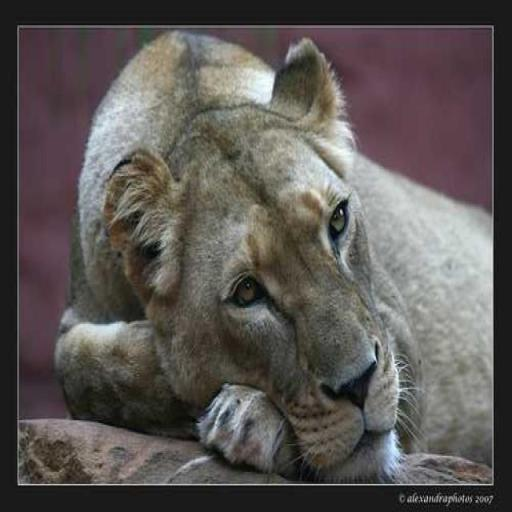Lion: (52, 28, 494, 484)
